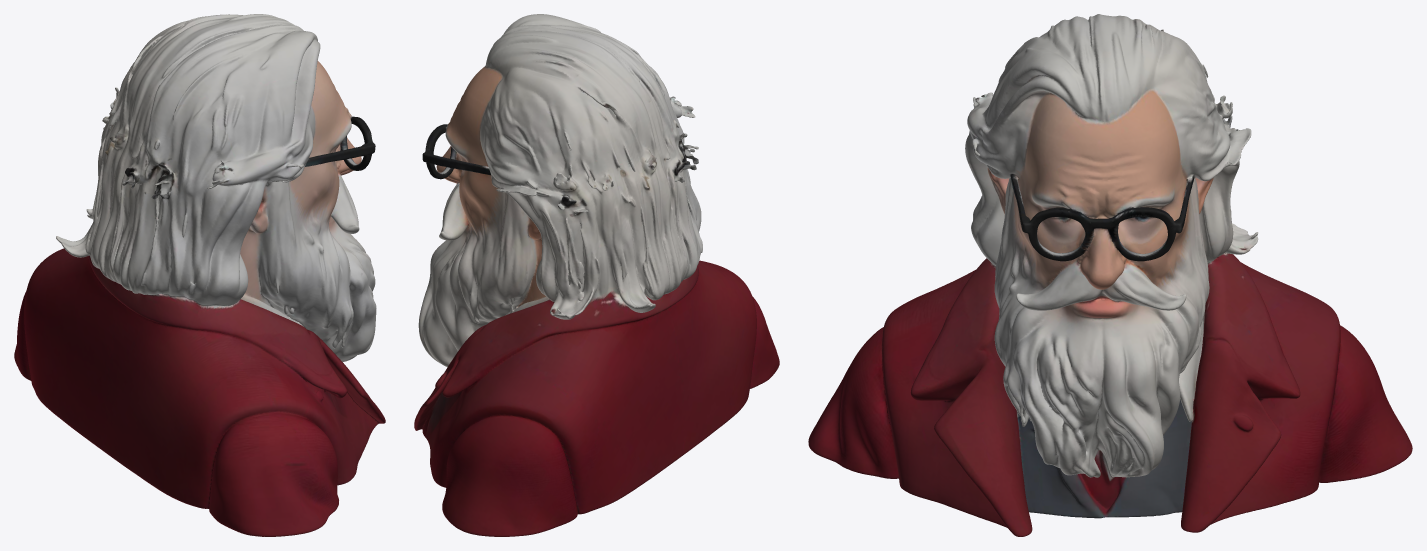
The model's file is detailed_realistic_model_albusdumbledore_21.glb.
3 views of the same model, side by side, from view 1: azimuth 30°, elevation 25°; view 2: azimuth 150°, elevation 25°; view 3: azimuth 270°, elevation 25° (orthographic). The views are drawn at different scales.
Visible parts, largest first — view 1: tripo_node_fad5a2a3-29e4-44b7-b9bd-6f3ba464ac8a; view 2: tripo_node_fad5a2a3-29e4-44b7-b9bd-6f3ba464ac8a; view 3: tripo_node_fad5a2a3-29e4-44b7-b9bd-6f3ba464ac8a.
Part boxes in pixels (x1,y1,x2,y2): tripo_node_fad5a2a3-29e4-44b7-b9bd-6f3ba464ac8a: [14, 14, 385, 536]; tripo_node_fad5a2a3-29e4-44b7-b9bd-6f3ba464ac8a: [414, 14, 779, 536]; tripo_node_fad5a2a3-29e4-44b7-b9bd-6f3ba464ac8a: [808, 14, 1412, 536].
Bounding box in the file's own units: 0.5599 × 0.8137 × 0.9999.
1 material, 1 textured.
